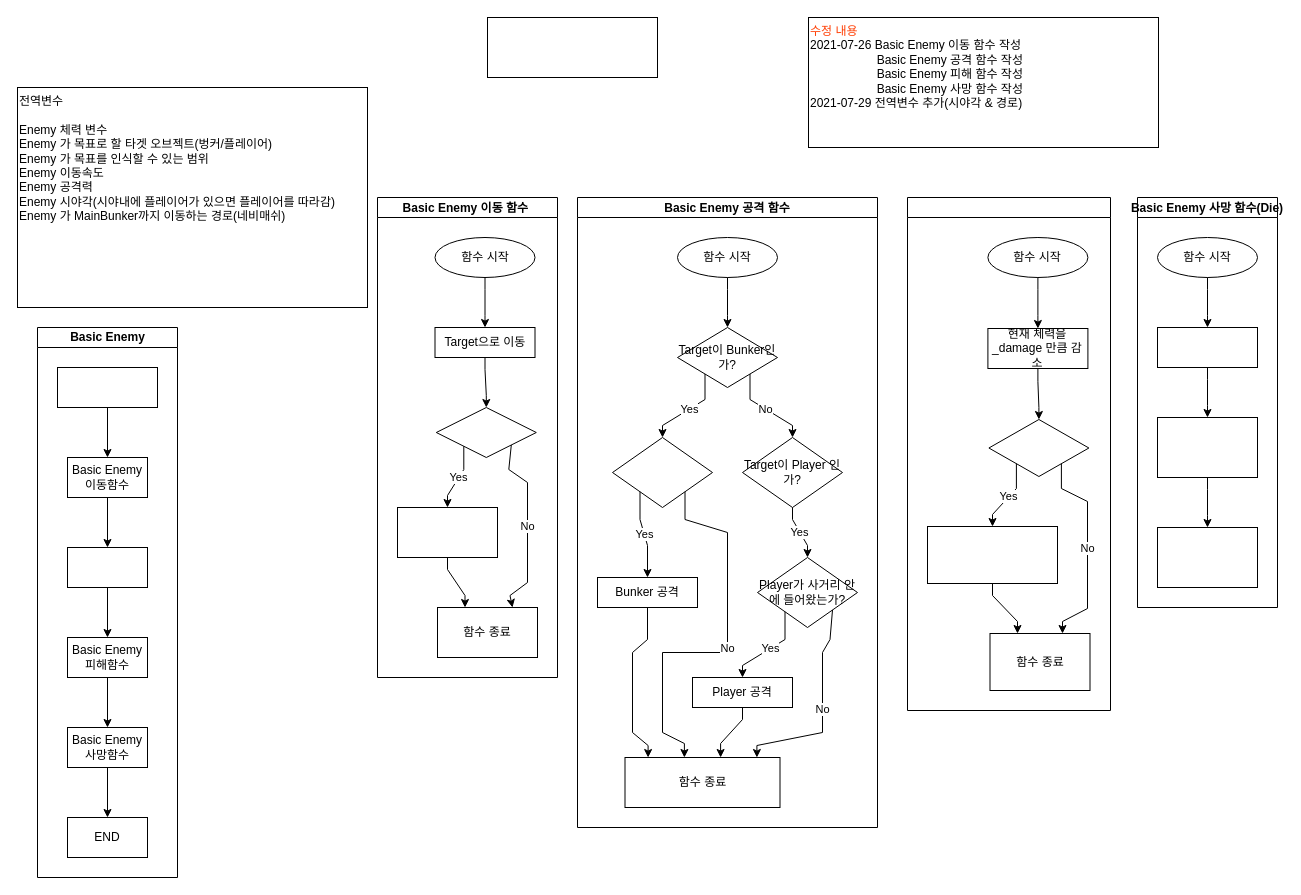
This 1301x895 diagram has some shape labels left out. Each missing label, with the box of its shape:
Basic Enemy 공격함수: (66, 546, 148, 588)
Basic Enemy 피해 함수(float _damage): (906, 196, 1110, 710)
Bunker 가 사거리 들어왔는가?: (612, 436, 712, 508)
Enemy 사망: (1156, 326, 1258, 368)
Enemy 사망 함수 호출 (사망 모션, 동작정지)-> 사망 반환값: (926, 526, 1058, 584)
EnemyCTRL.CS Enemy 오브젝트에게 들어갈 스크립트: (486, 16, 658, 78)
Start: (56, 366, 158, 408)
Target을 Player로 변경: (396, 506, 498, 558)
사망이후 일정 시간이 지나서 오브젝트 삭제: (1156, 416, 1258, 478)
이동중 Player를 인식하였는가?: (435, 406, 536, 458)
함수종료: (1156, 526, 1258, 588)
현재 체력 =< 0?: (988, 418, 1089, 476)
